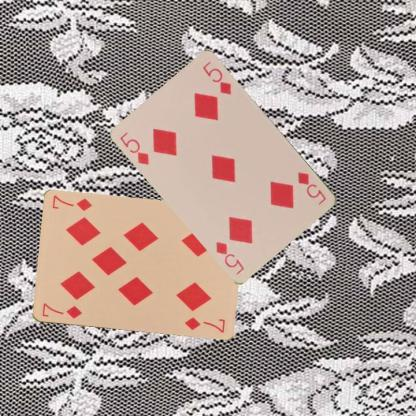5d: (117, 130, 151, 166), (295, 170, 328, 206)
7d: (39, 301, 83, 320)
